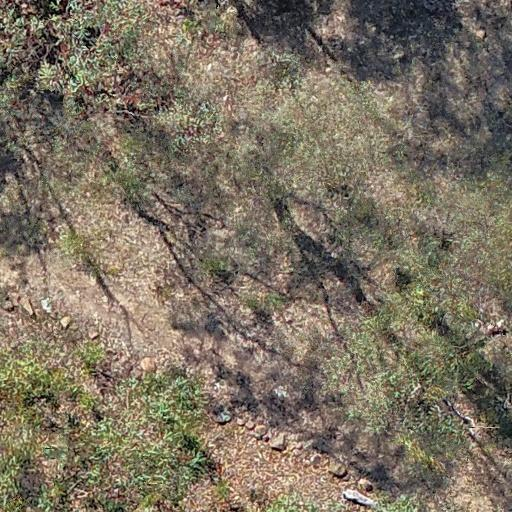stone: (268, 433, 288, 451), (327, 460, 347, 476), (20, 296, 34, 317), (139, 356, 157, 372), (360, 478, 375, 492), (495, 317, 507, 333), (0, 298, 13, 312), (308, 452, 322, 465), (60, 316, 72, 330), (9, 289, 18, 306), (292, 442, 304, 454), (474, 28, 486, 40), (487, 324, 496, 336), (254, 425, 266, 434), (244, 420, 256, 429), (90, 331, 100, 341), (262, 434, 270, 442), (236, 418, 244, 426)
